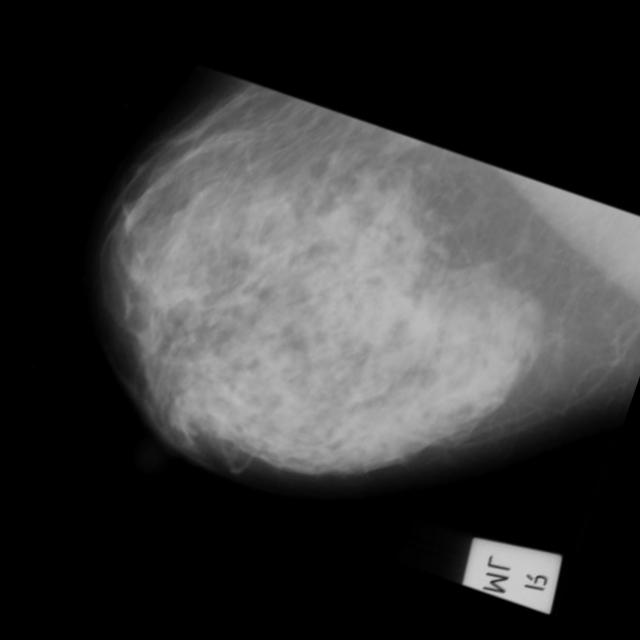ARCH: (389, 120, 425, 156)
